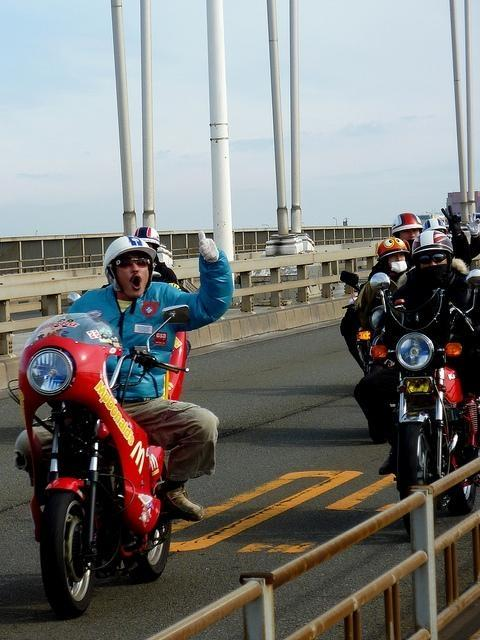motorcycle: (20, 300, 198, 628), (369, 271, 480, 500), (337, 268, 401, 446)
